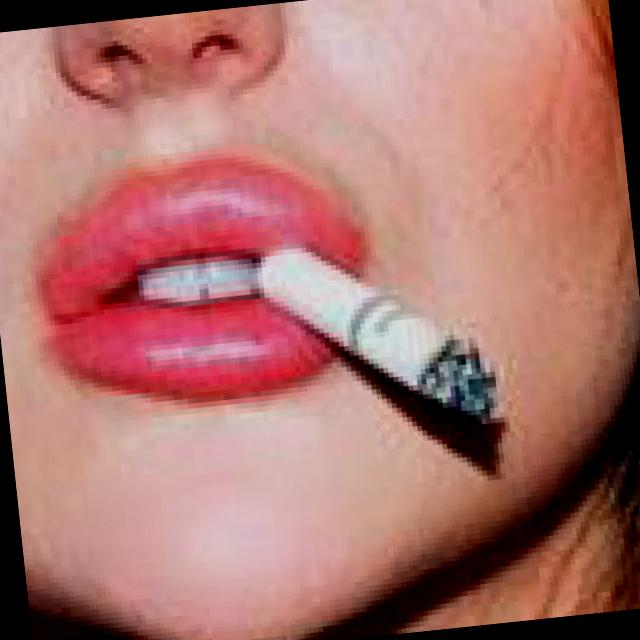smoke: (234, 227, 502, 442)
